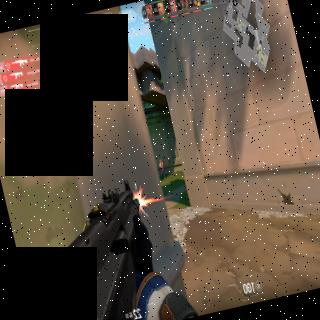ENEMY-BODY: (158, 158, 166, 180)
ENEMY-HEAD: (159, 158, 161, 162)
